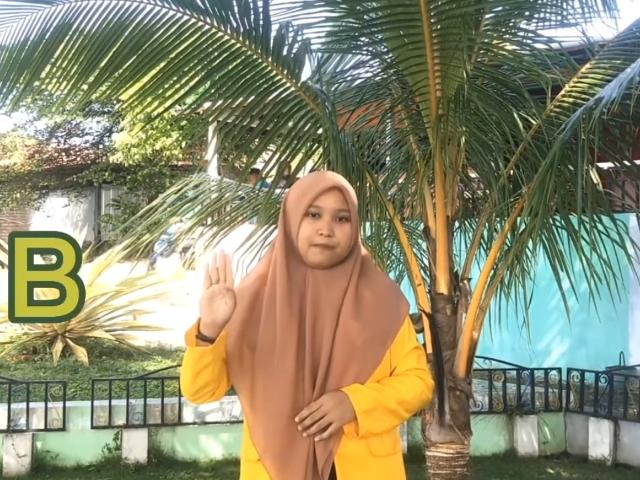B: (198, 248, 236, 330)
